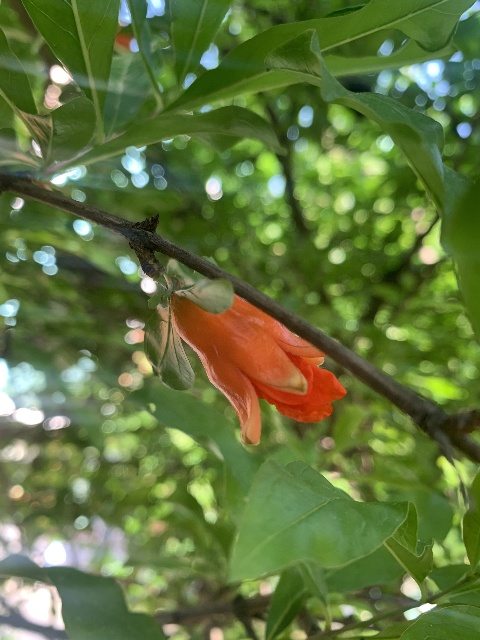flower: (170, 292, 347, 443)
